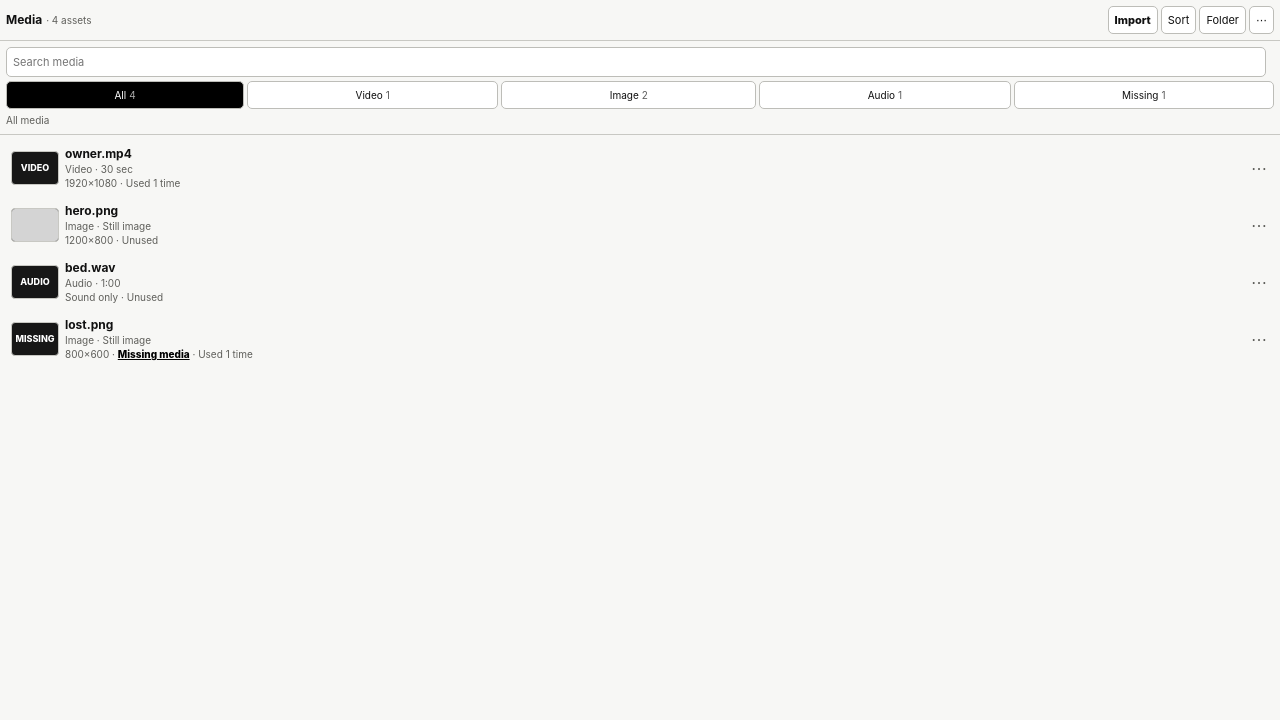
Test: MediaBin › opens the same actions from right-click or Shift+F10 and closes with Escape
Right-click the button with aria-label "hero.png, Image".
right_click(35, 225)  # box [7,199,1245,251]
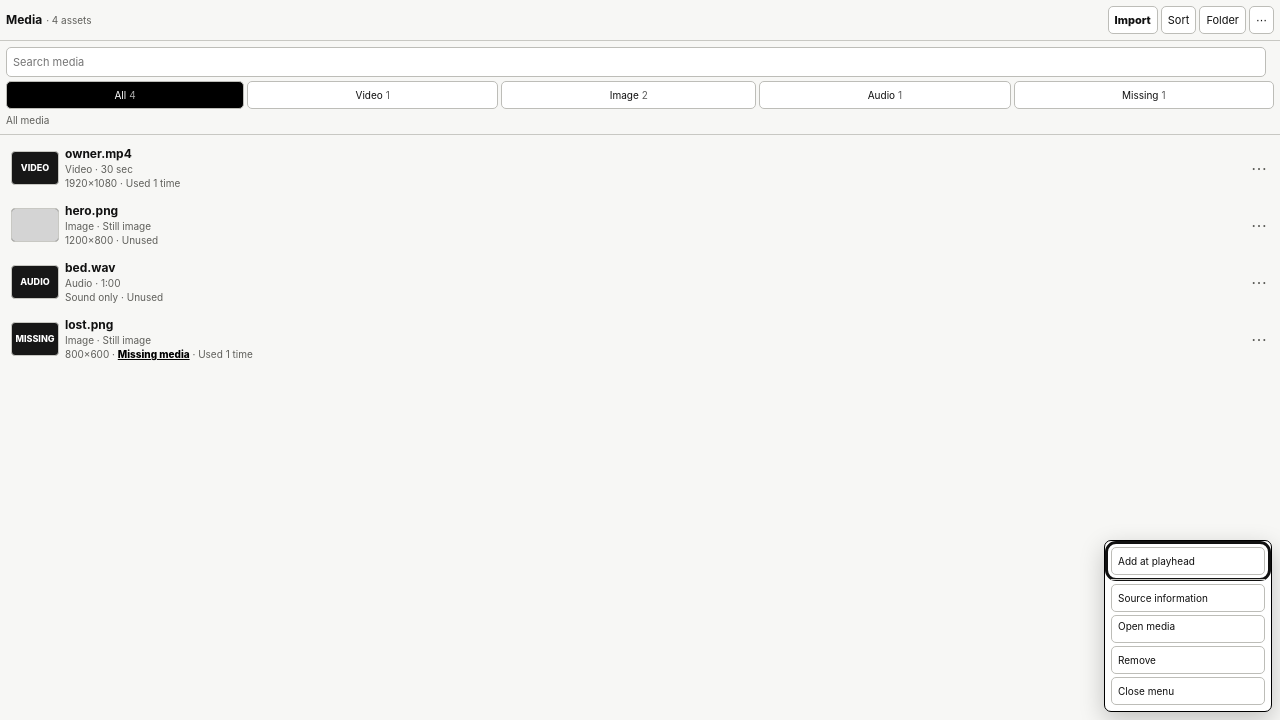
Expected: the menu named "hero.png actions" is shown, [1104,540,1272,712]
Press Escape
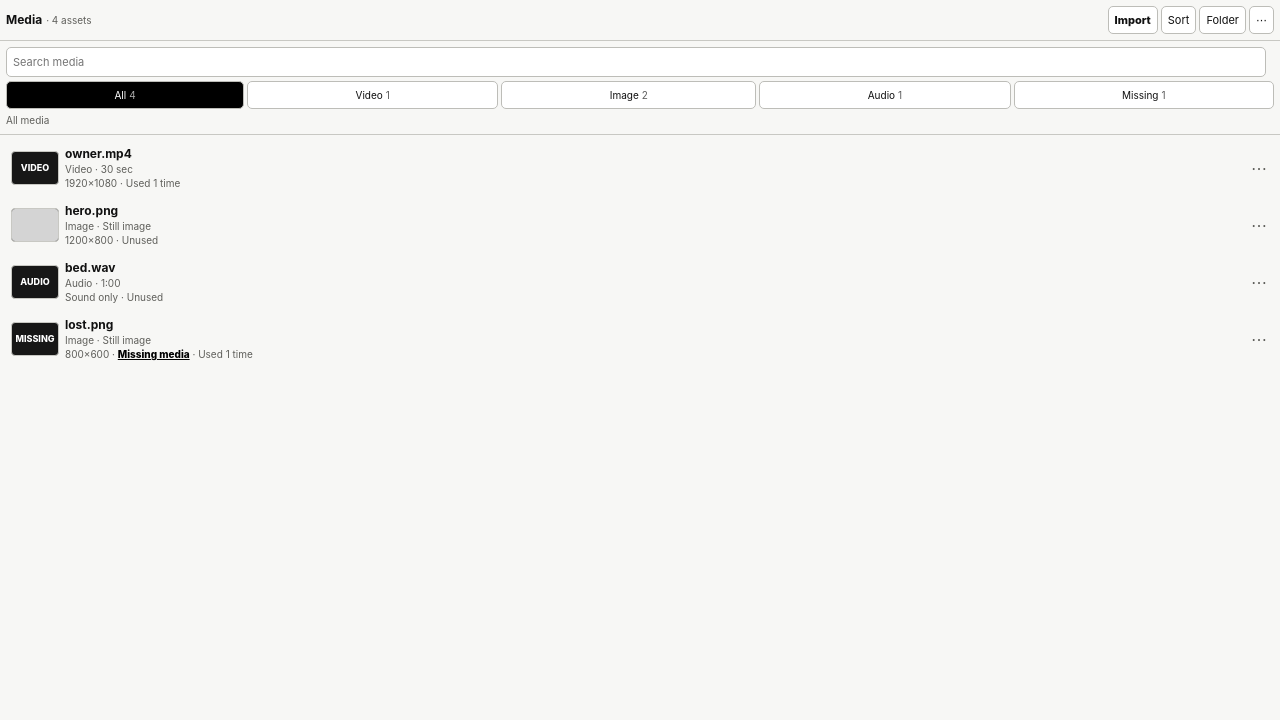
Expected: the menu is gone
Press F10 in the button with aria-label "hero.png, Image", box [7,199,1245,251]
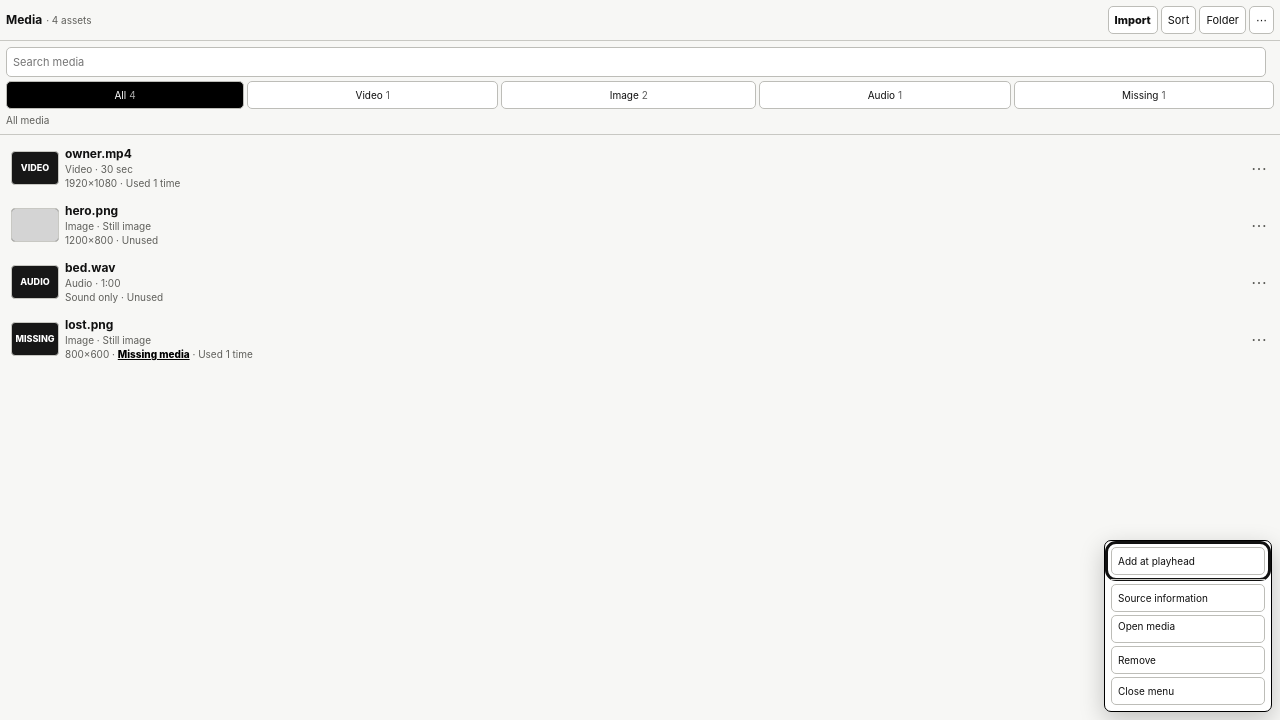
Expected: the menu is shown, [1104,540,1272,712]
